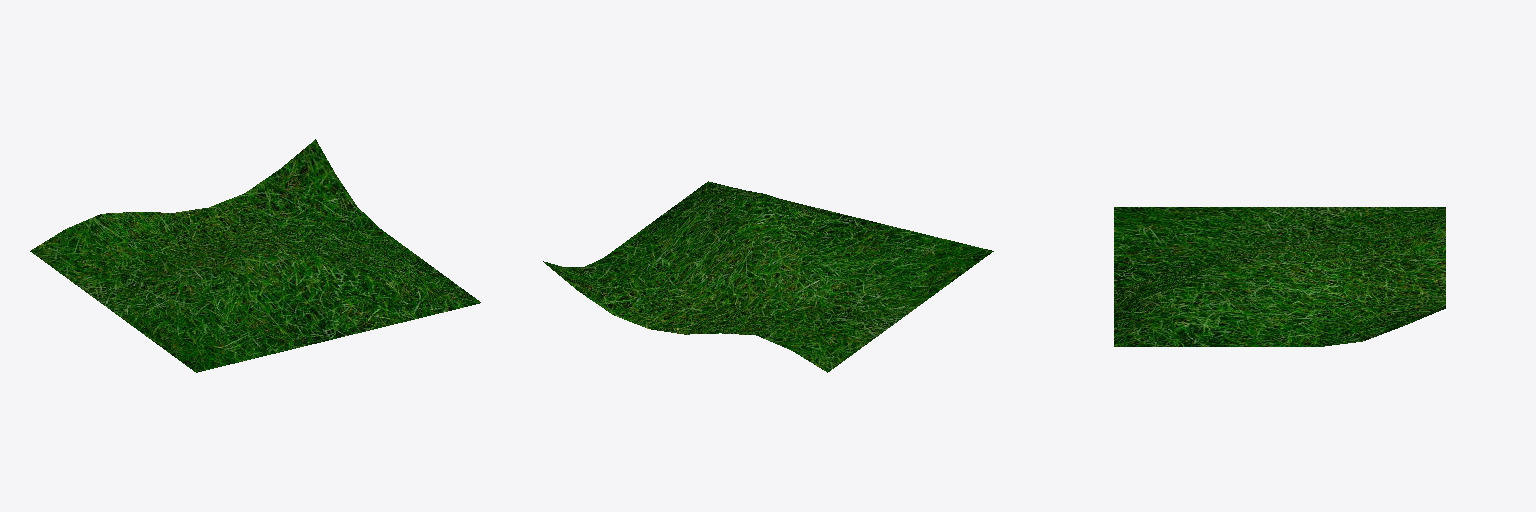
The picture shows the model from 3 angles: view 1: azimuth 30°, elevation 25°; view 2: azimuth 150°, elevation 25°; view 3: azimuth 270°, elevation 25°; orthographic projection.
Visible parts, largest first — view 1: Plane001; view 2: Plane001; view 3: Plane001.
Part boxes in pixels (left/top/right/bottom): Plane001: left=30, top=139, right=480, bottom=372; Plane001: left=543, top=181, right=993, bottom=372; Plane001: left=1114, top=207, right=1445, bottom=346.
Bounding box in the file's own units: 139 × 19.55 × 140.
Materials: 1 (1 with a texture image).